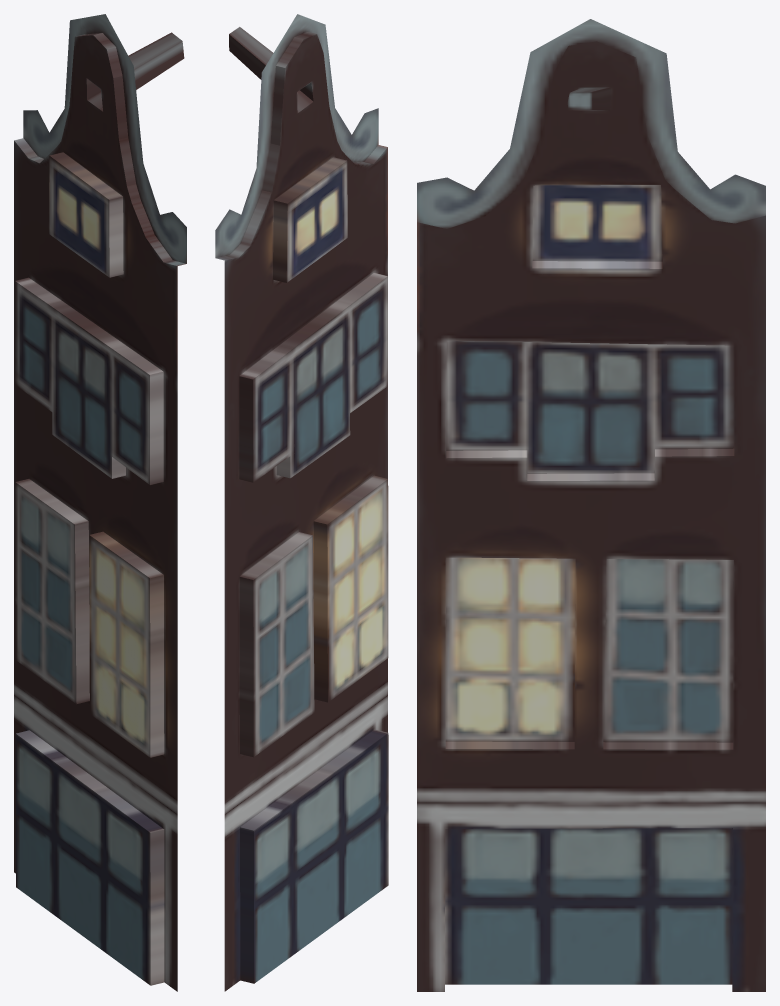
The model's file is Mesh_Exterior_House2.fbx.
3 views of the same model, side by side, from view 1: azimuth 30°, elevation 25°; view 2: azimuth 150°, elevation 25°; view 3: azimuth 270°, elevation 25° (orthographic). The views are drawn at different scales.
Visible parts, largest first — view 1: House2; view 2: House2; view 3: House2.
Part boxes in pixels (box(x1,y1,x2,y2)): House2: box(14, 14, 186, 991); House2: box(215, 14, 388, 991); House2: box(417, 19, 765, 991).
Size of the model in its own units: 48.76 by 472 by 153.
